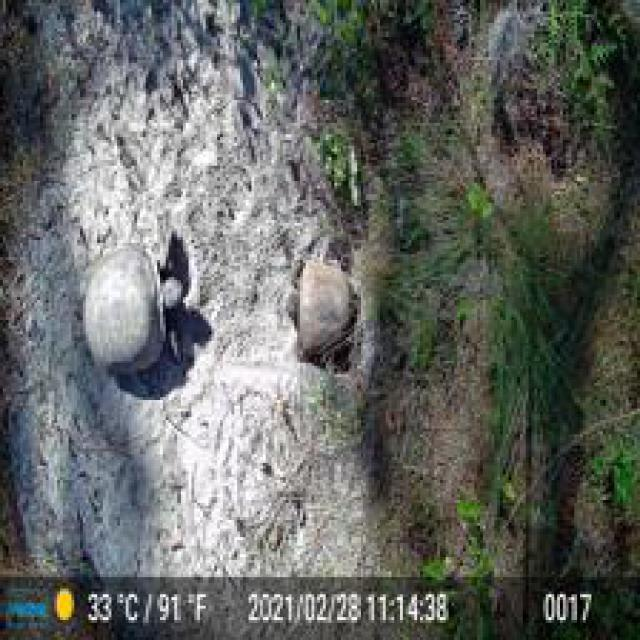tortoise: (75, 234, 192, 386), (283, 249, 355, 369)
